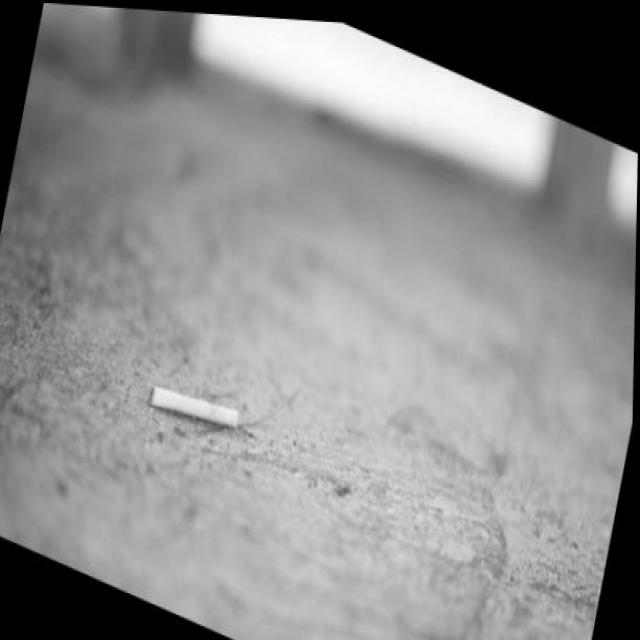cigarette: (147, 366, 245, 443)
